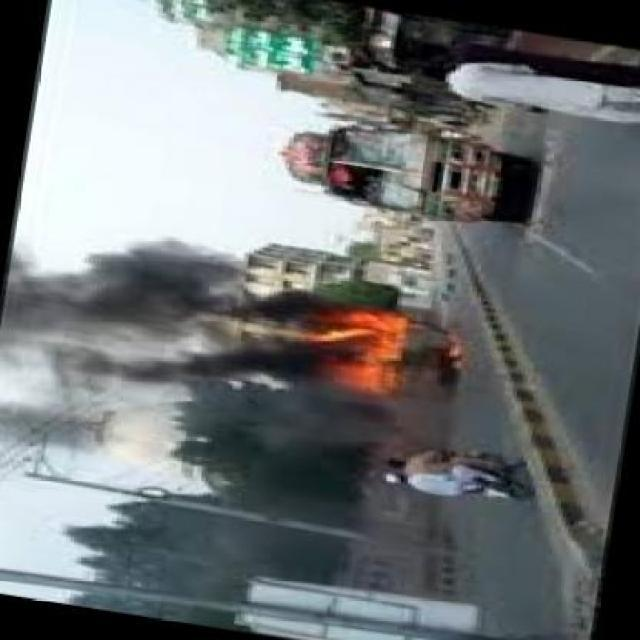Fire: (304, 290, 418, 410)
Smoke: (0, 230, 303, 448)
